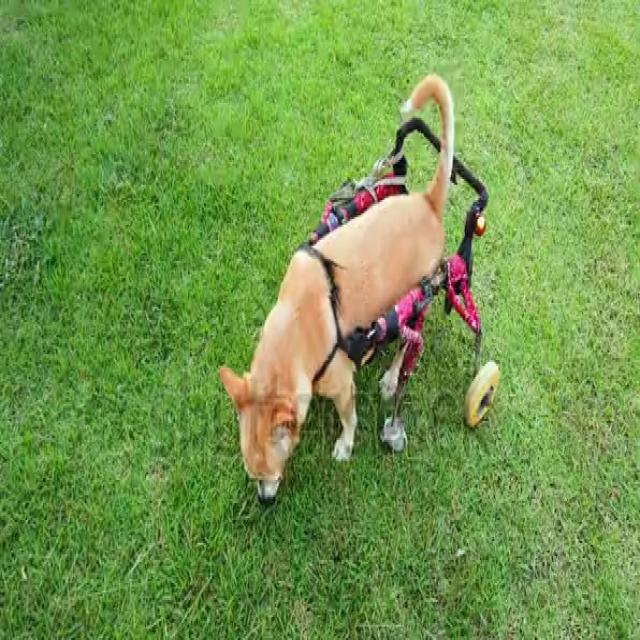injured-animals: (216, 68, 495, 510)
